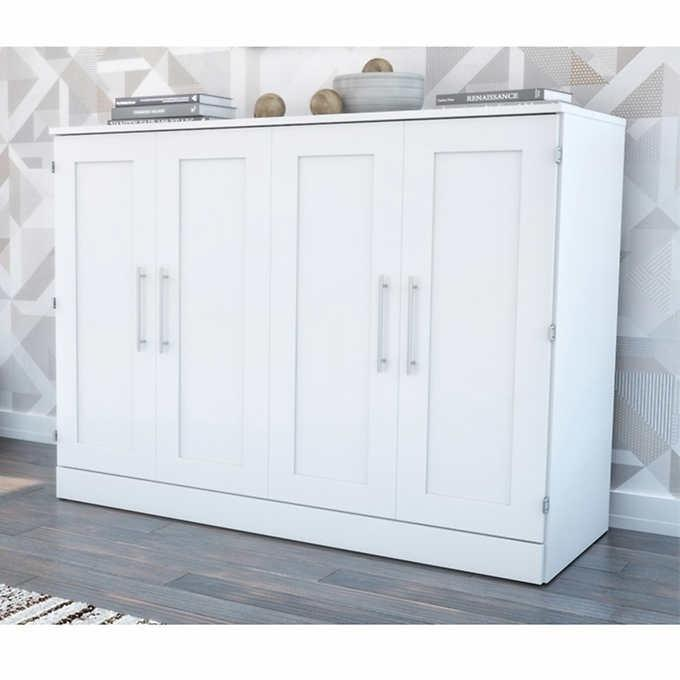cabinet_door: (403, 124, 553, 530), (272, 130, 397, 509), (154, 134, 262, 489), (51, 142, 151, 475)
handle: (373, 277, 394, 374), (405, 276, 424, 369), (134, 267, 154, 351), (158, 266, 177, 351)
